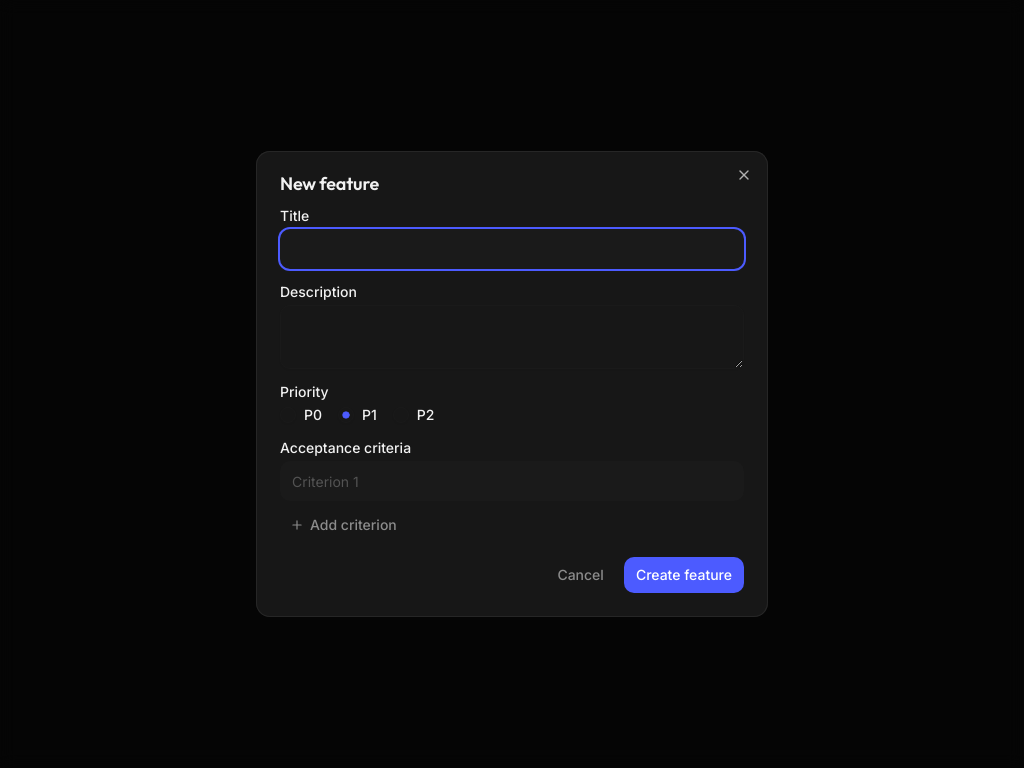
Test: FeatureForm › shows a validation error when title is empty on submit
Click the button "Create feature" at (684, 575), box [624,557,744,593]
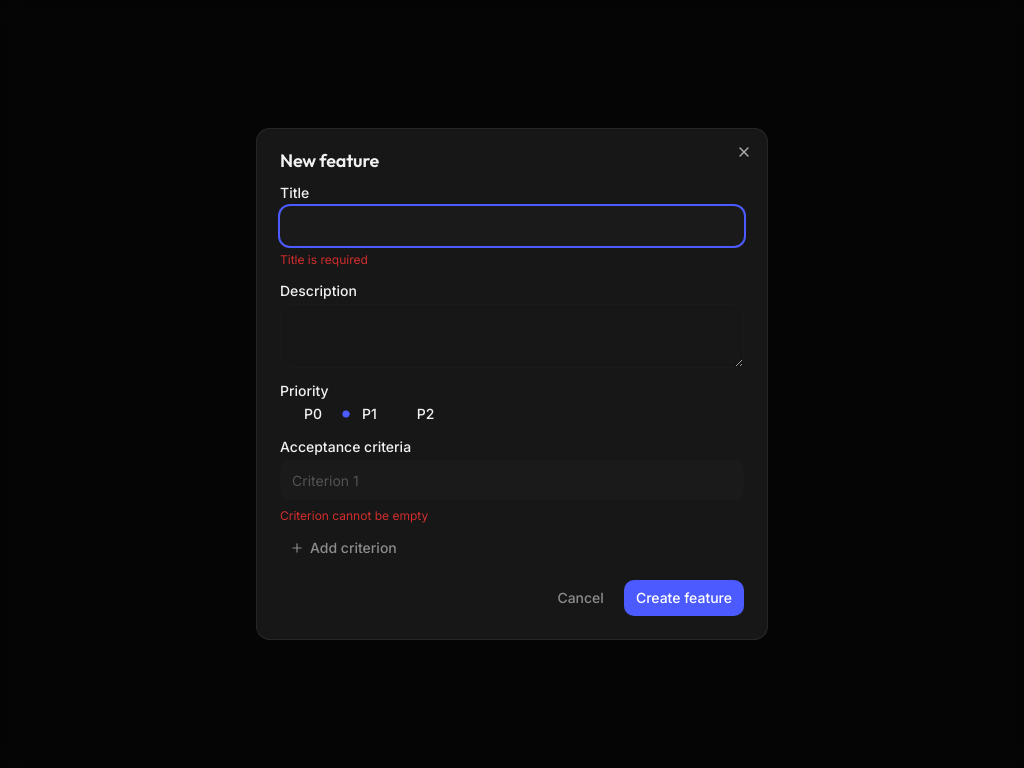
Now the text "Title is required" is shown, box [280,252,368,267]
